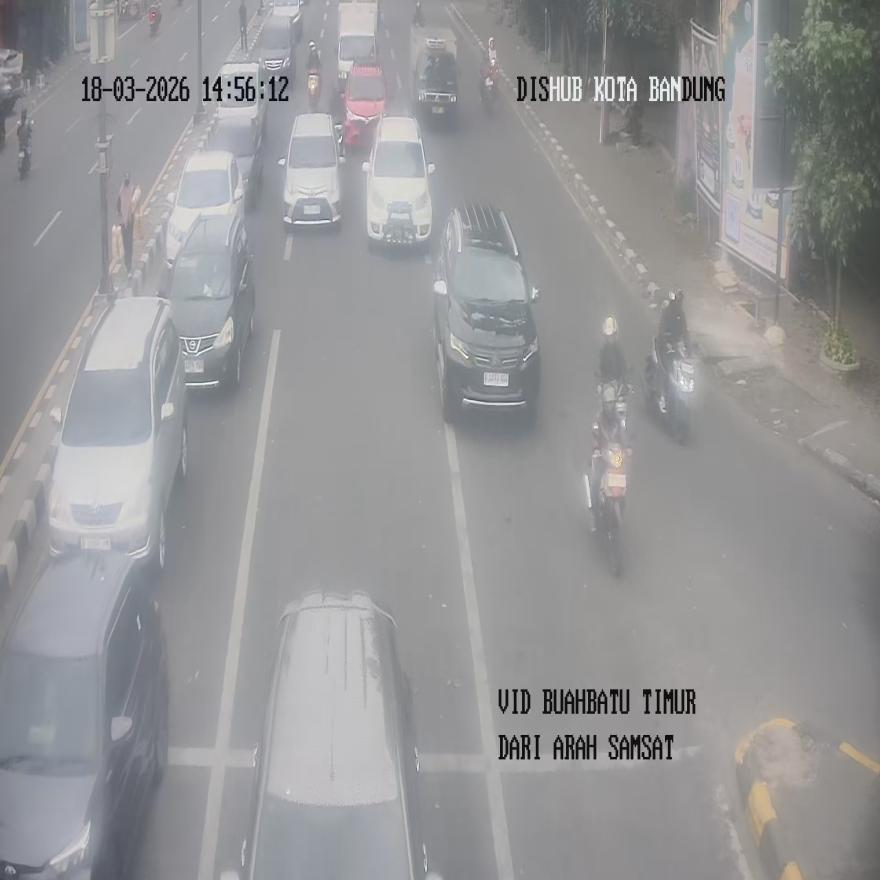Mobil: (220, 589, 440, 878), (0, 548, 168, 878), (46, 296, 187, 572), (433, 198, 540, 420), (165, 205, 254, 388), (163, 146, 245, 271), (362, 114, 435, 249), (206, 61, 266, 205), (279, 113, 345, 227), (410, 24, 458, 118), (342, 57, 386, 151)
Truk ringan: (336, 0, 378, 95)
